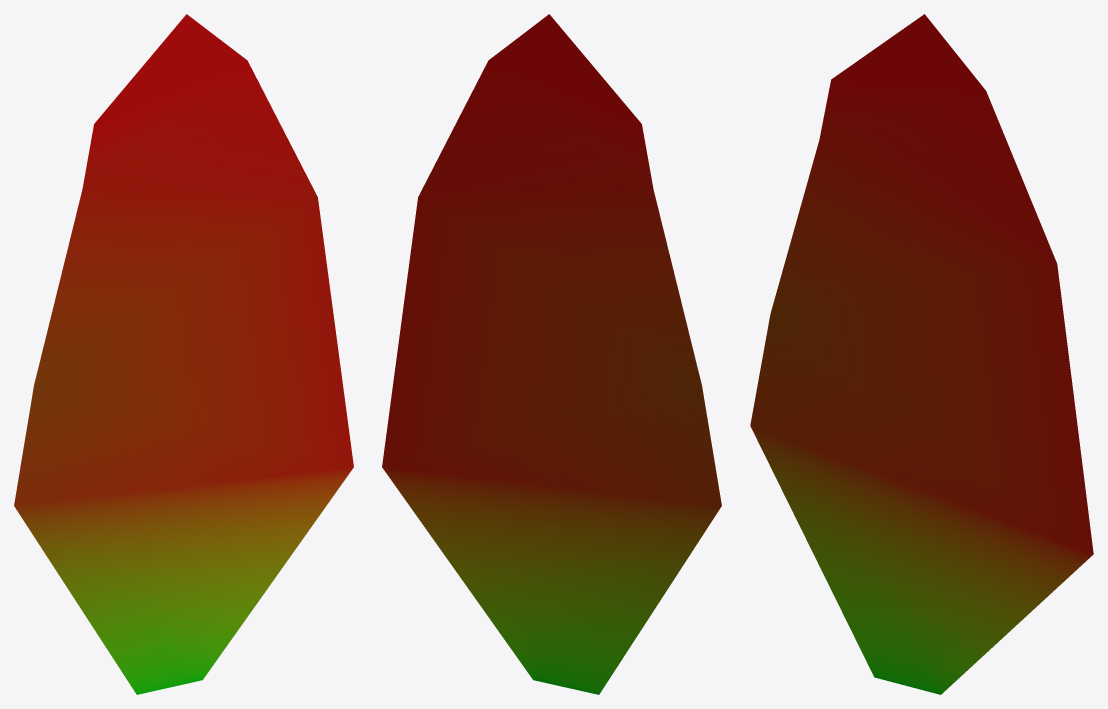
File: Var1_LOD4.fbx
The picture shows the model from 3 angles, left to right: view 1: azimuth 30°, elevation 25°; view 2: azimuth 150°, elevation 25°; view 3: azimuth 330°, elevation 25°; orthographic projection.
Parts seen in each view (by area): view 1: _df16_Var1_LOD4; view 2: _df16_Var1_LOD4; view 3: _df16_Var1_LOD4.
Boxes of the visible parts, box(x1,y1,x2,y2) form: _df16_Var1_LOD4: box(14, 14, 353, 694); _df16_Var1_LOD4: box(382, 14, 721, 694); _df16_Var1_LOD4: box(750, 14, 1093, 694).
Size of the model in its own units: 128 by 241 by 4.66e-05.
